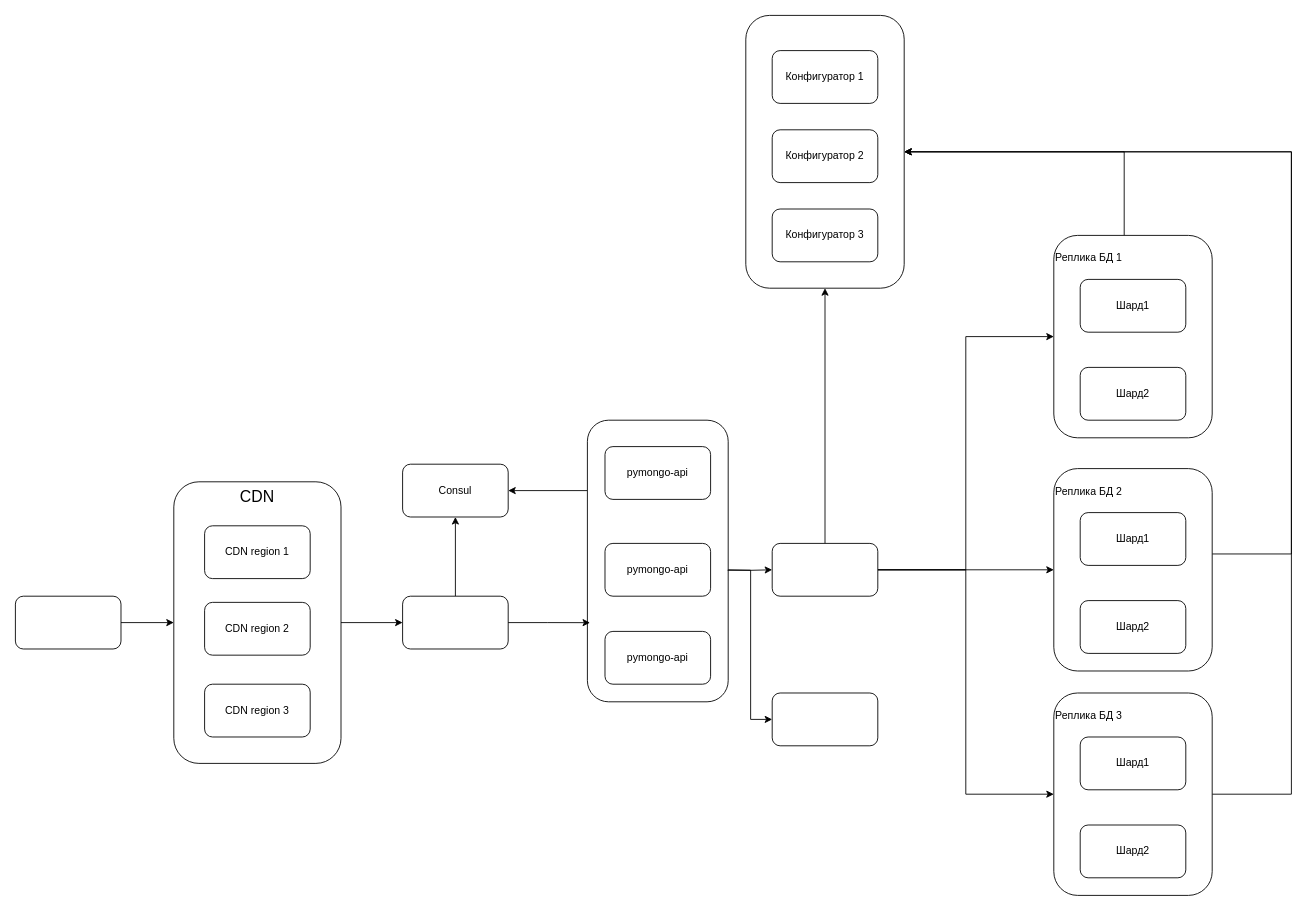
Some shapes in this 1314 by 911 pixel diagram are drawn without their labels. The shapes that lost their labels are listed below. From the top down, each one's box as (x1, y1, x2, y2) in pixels, then its label:
(745, 15, 904, 288): Репликасет конфигуратора
(771, 543, 878, 596): Роутер
(15, 595, 121, 649): Клиент
(402, 595, 508, 649): API Gateway
(771, 692, 878, 746): Redis
